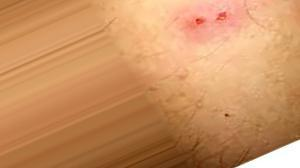Spider: (177, 8, 239, 40)
